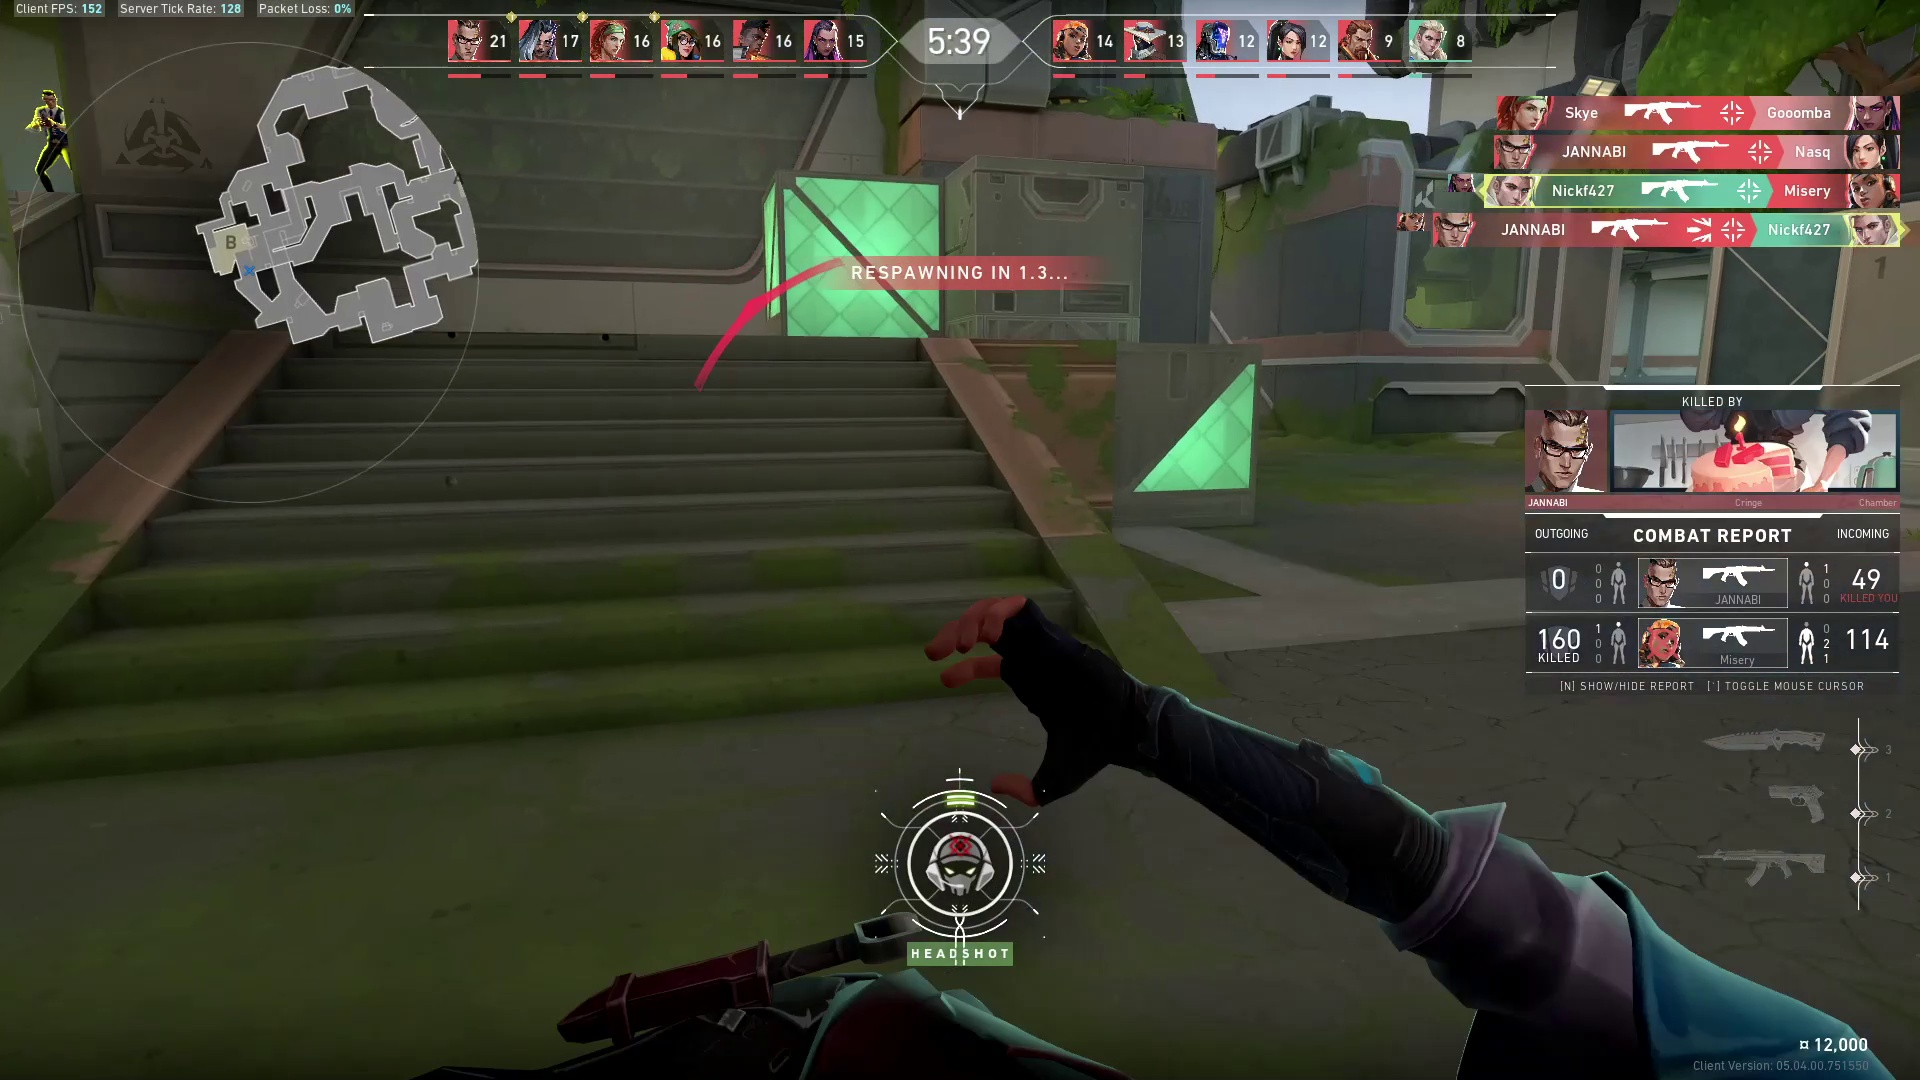enemy_body: (26, 105, 76, 195)
enemy_head: (40, 88, 61, 109)
